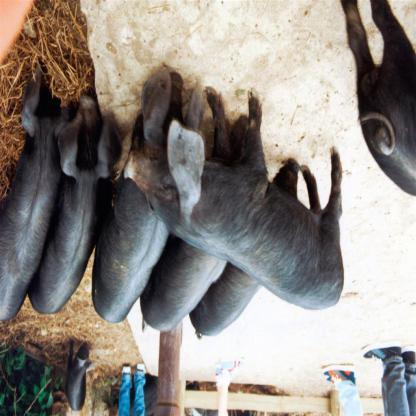boar: (0, 59, 344, 341), (341, 1, 415, 199), (64, 337, 98, 413)
